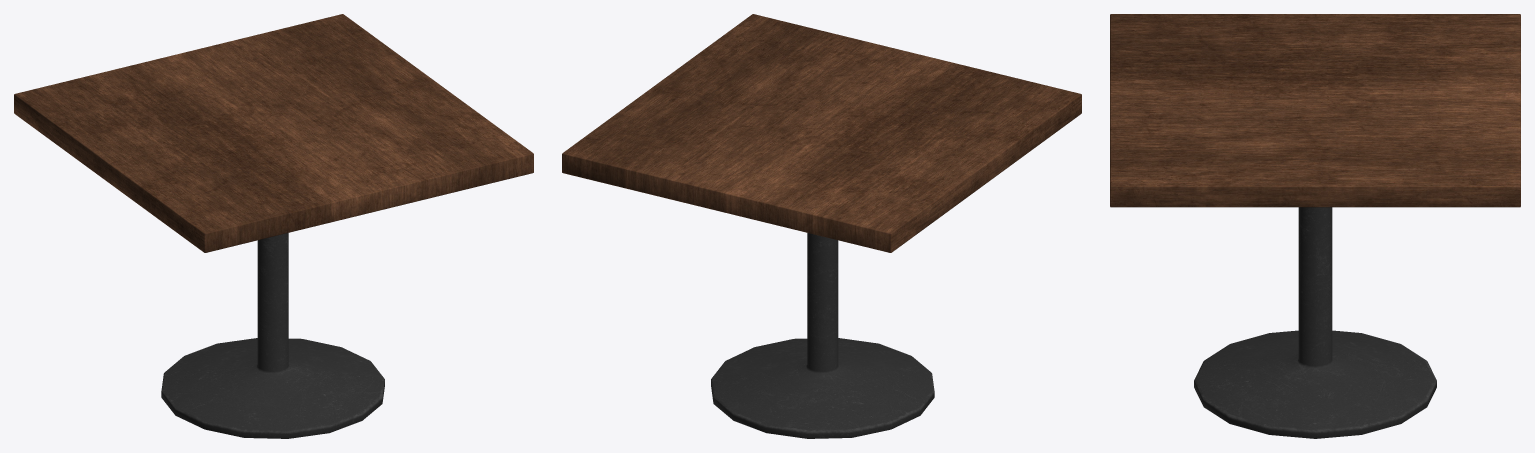
The model's file is tablecafe.fbx.
3 renders of one model, left to right at view 1: azimuth 30°, elevation 25°; view 2: azimuth 150°, elevation 25°; view 3: azimuth 270°, elevation 25°, orthographic. The views are drawn at different scales.
Visible parts, largest first — view 1: Cube.349; view 2: Cube.349; view 3: Cube.349.
Boxes of the visible parts, x1,y1,x2,y2 form: Cube.349: (14, 14, 533, 438); Cube.349: (562, 14, 1081, 438); Cube.349: (1110, 14, 1520, 438).
Size of the model in its own units: 1.3 by 1.01 by 1.3.
